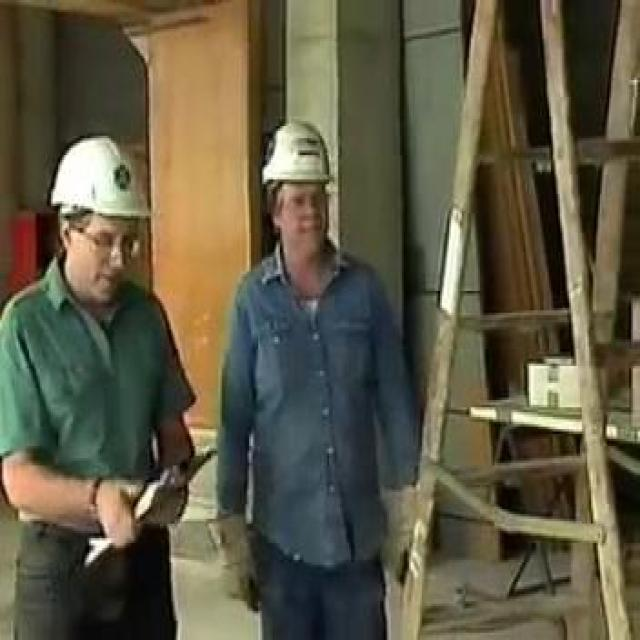Safety-Helmet: (33, 126, 169, 245), (244, 107, 349, 211)
